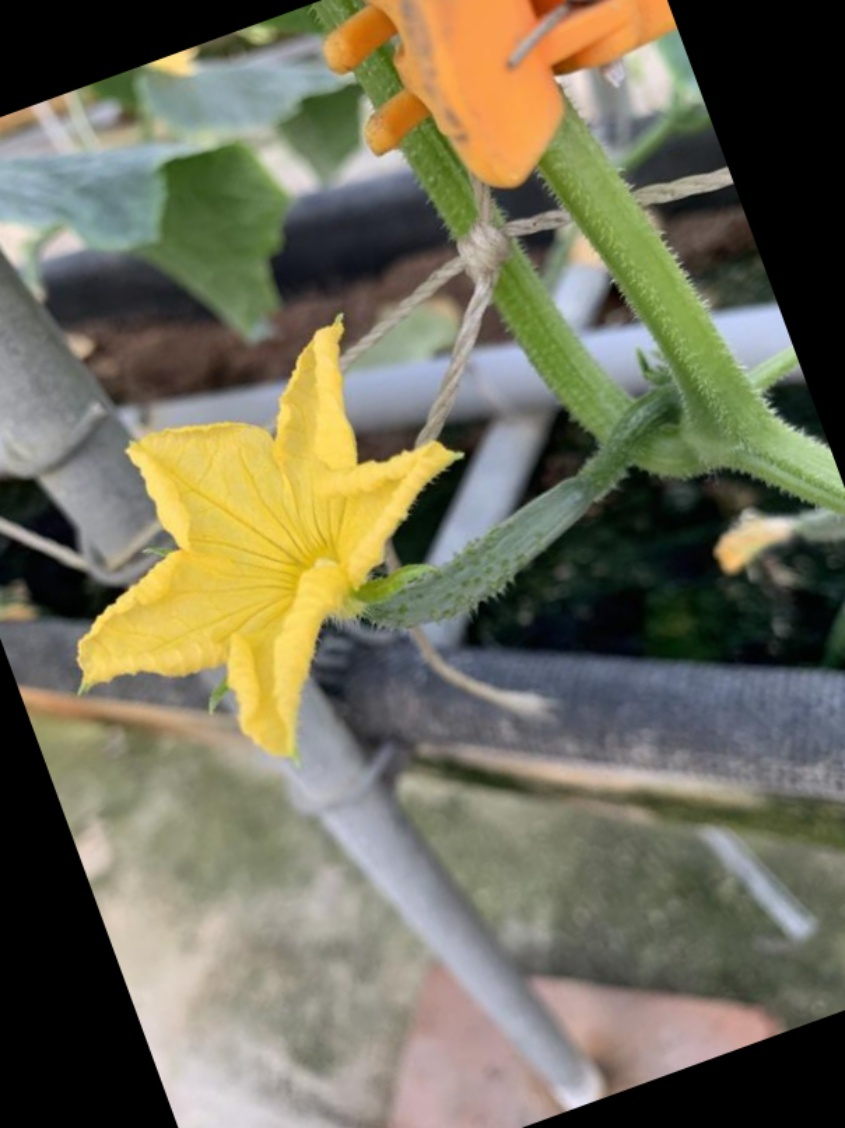flowering: (65, 294, 526, 783)
